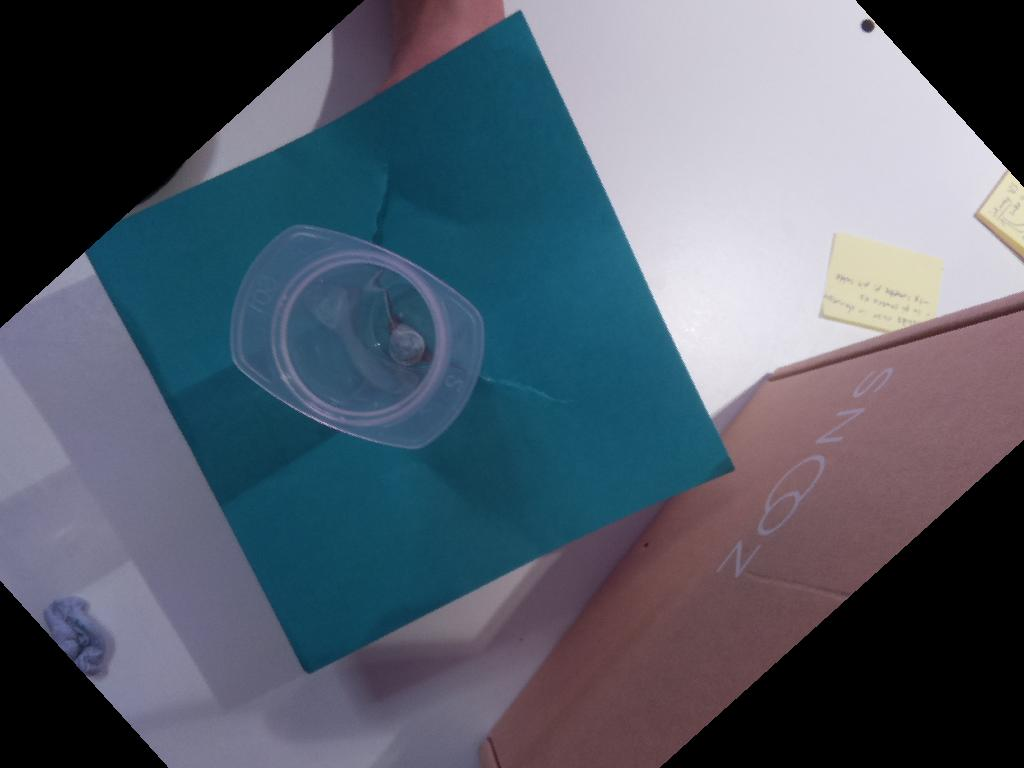clean: (228, 223, 486, 451)
